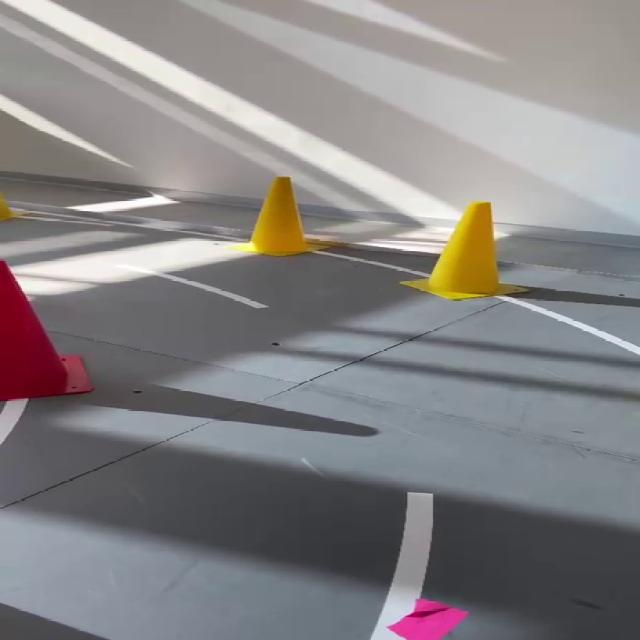Cone-red: (0, 258, 91, 401)
Cones-yellow: (423, 202, 513, 298), (233, 178, 313, 256), (0, 195, 14, 221)
